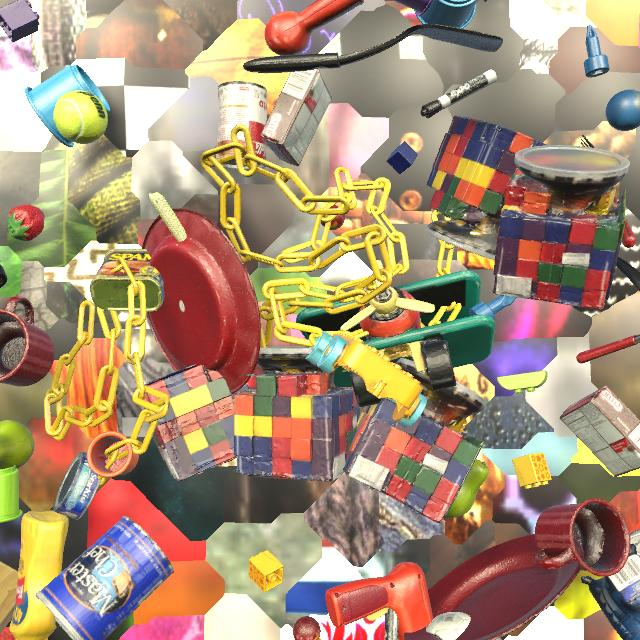ycb_002_master_chef_can: (35, 516, 174, 640)
ycb_005_tomato_soup_can: (215, 81, 267, 169)
ycb_006_mustard_bottle: (10, 511, 69, 640)
ycb_007_tuna_fish_can: (53, 452, 102, 520)
ycb_008_pudding_box: (560, 386, 640, 477), (261, 69, 332, 166)
ycb_010_potted_meat_can: (90, 249, 164, 312)
ycb_012_strawberry: (7, 204, 44, 241)
ycb_016_pear: (443, 459, 489, 518), (0, 420, 35, 470)
